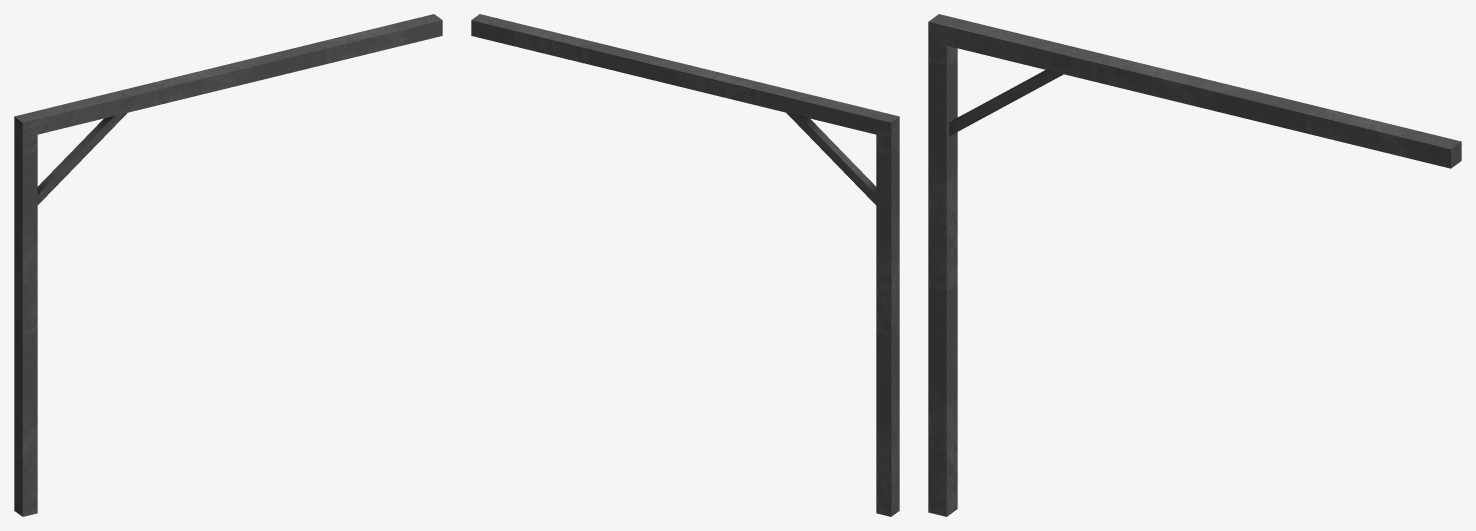
The model's file is pole_lshape_w150cm_150cm.obj.
3 views of the same model, side by side, from view 1: azimuth 30°, elevation 25°; view 2: azimuth 150°, elevation 25°; view 3: azimuth 330°, elevation 25° (orthographic). The views are drawn at different scales.
Parts seen in each view (by area): view 1: pole_l150w150, pole_l150w150_2, pole_lshape_l150w150, pole_end_l150w150; view 2: pole_l150w150, pole_l150w150_2, pole_lshape_l150w150, pole_end_l150w150; view 3: pole_l150w150, pole_l150w150_2, pole_lshape_l150w150, pole_end_l150w150.
Part boxes in pixels (x1=…): pole_l150w150: x1=14, y1=124, x2=37, y2=516; pole_l150w150_2: x1=145, y1=24, x2=399, y2=106; pole_lshape_l150w150: x1=14, y1=84, x2=153, y2=204; pole_end_l150w150: x1=391, y1=14, x2=442, y2=46; pole_l150w150: x1=876, y1=124, x2=899, y2=516; pole_l150w150_2: x1=514, y1=24, x2=768, y2=106; pole_lshape_l150w150: x1=760, y1=84, x2=899, y2=204; pole_end_l150w150: x1=471, y1=14, x2=522, y2=46; pole_l150w150: x1=928, y1=31, x2=957, y2=516; pole_l150w150_2: x1=1090, y1=53, x2=1407, y2=155; pole_lshape_l150w150: x1=928, y1=14, x2=1100, y2=135; pole_end_l150w150: x1=1397, y1=128, x2=1461, y2=168.
Size of the model in its own units: 1.71 by 1.53 by 0.0604.
1 material, 1 textured.
